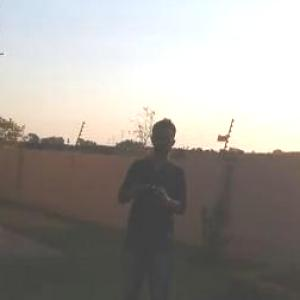follow: (106, 111, 195, 299)
